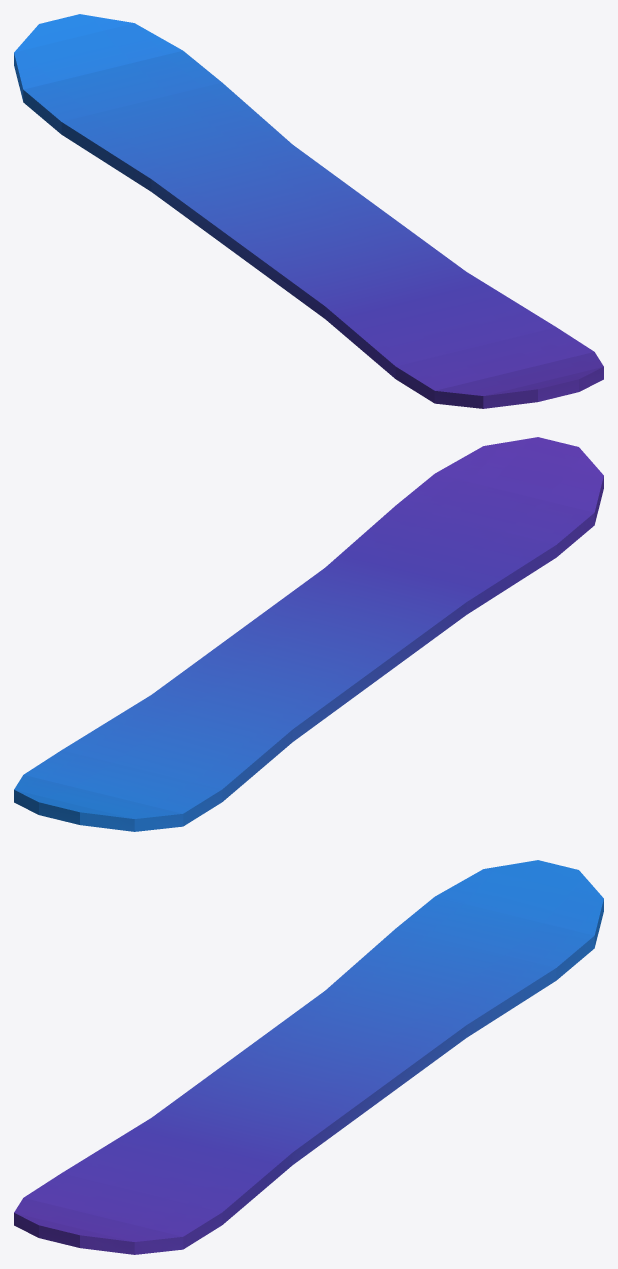
Rendered from training_item_005.glb.
3 renders of one model, top to bottom at view 1: azimuth 30°, elevation 25°; view 2: azimuth 150°, elevation 25°; view 3: azimuth 330°, elevation 25°, orthographic.
Visible parts, largest first — view 1: training_item_005; view 2: training_item_005; view 3: training_item_005.
Part boxes in pixels (x1,y1,x2,y2): training_item_005: (14,14,603,408); training_item_005: (14,437,603,831); training_item_005: (14,860,603,1254).
Bounding box in the file's own units: 0.2949 × 0.0643 × 1.59.
1 material, 1 textured.
